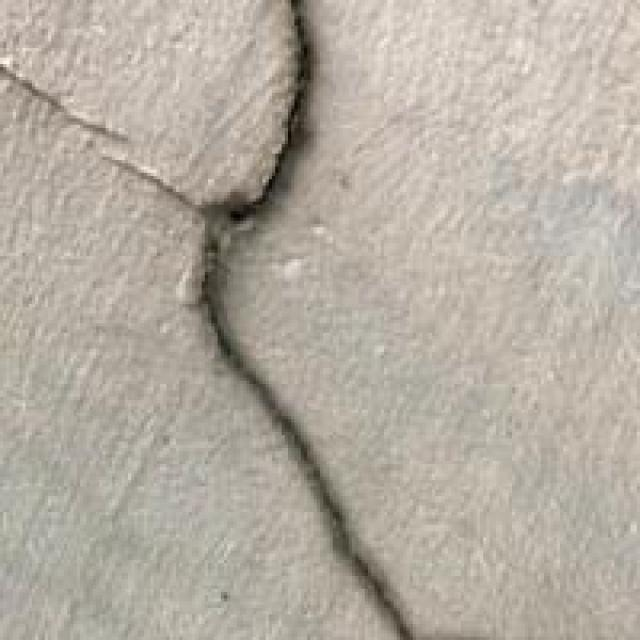crack: (150, 6, 426, 637)
